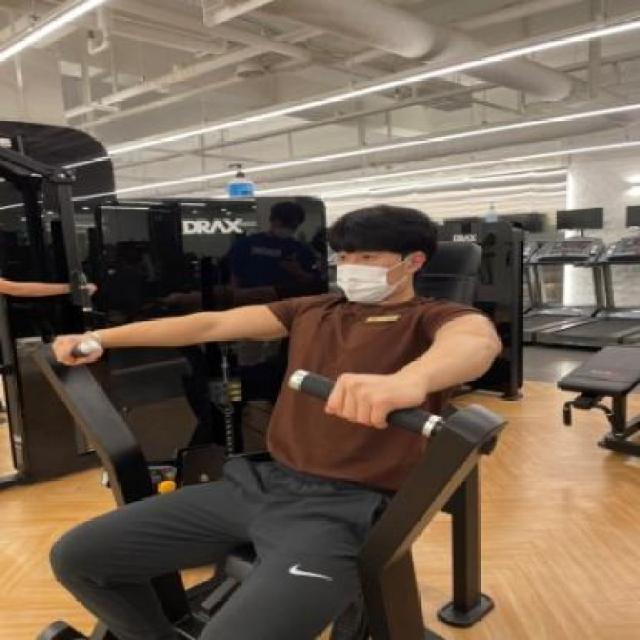Chest Press machine: (7, 164, 538, 640)
